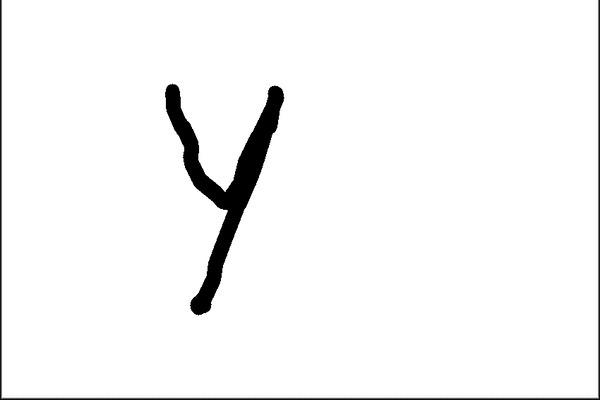Y: (148, 73, 302, 332)
